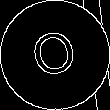O_S: (27, 24, 83, 86)
